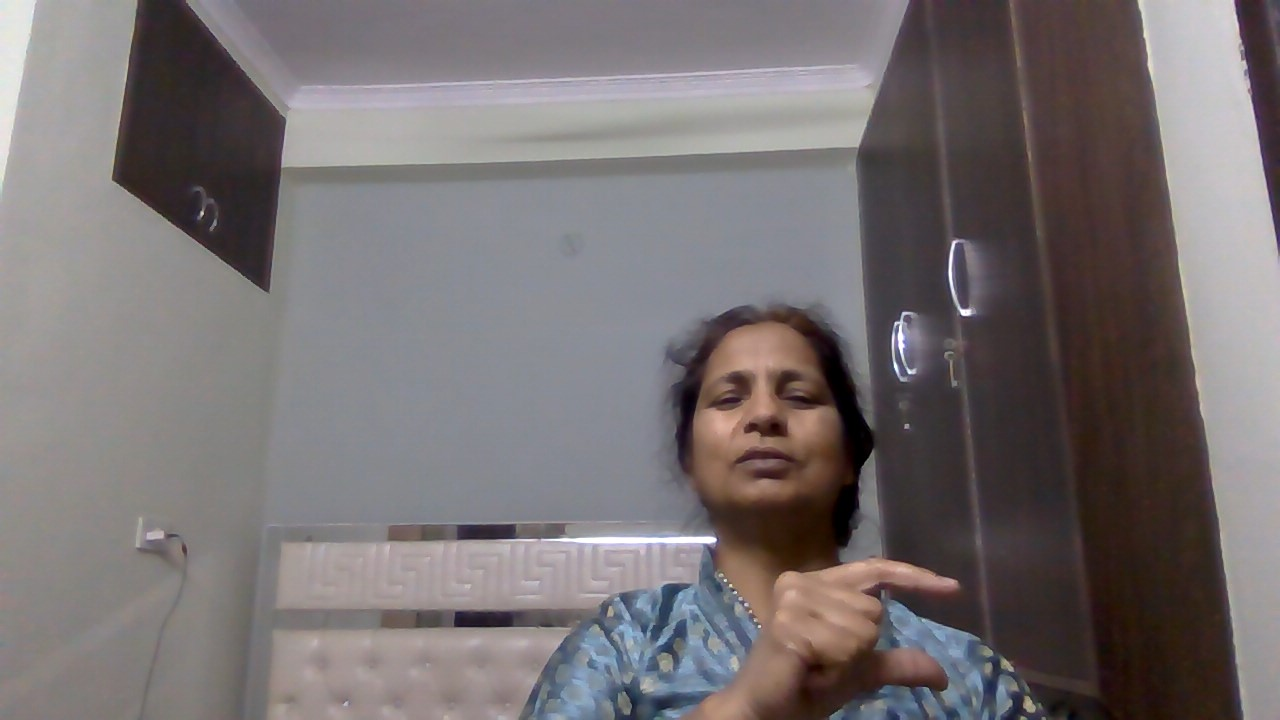Paste: (722, 553, 976, 720)
